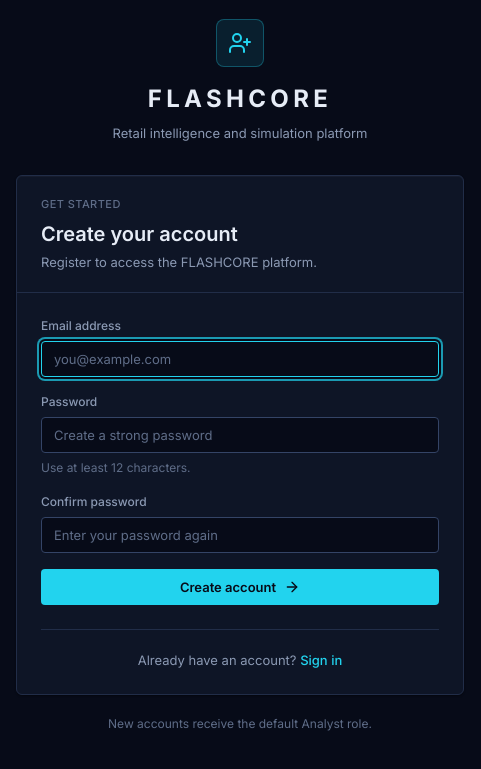
it: SignupPage › rejects mismatched password confirmation
Type "analyst@flashcore.test" into the field labelled "Email address". click: (240, 359)
box: x1=41 y1=341 x2=439 y2=377
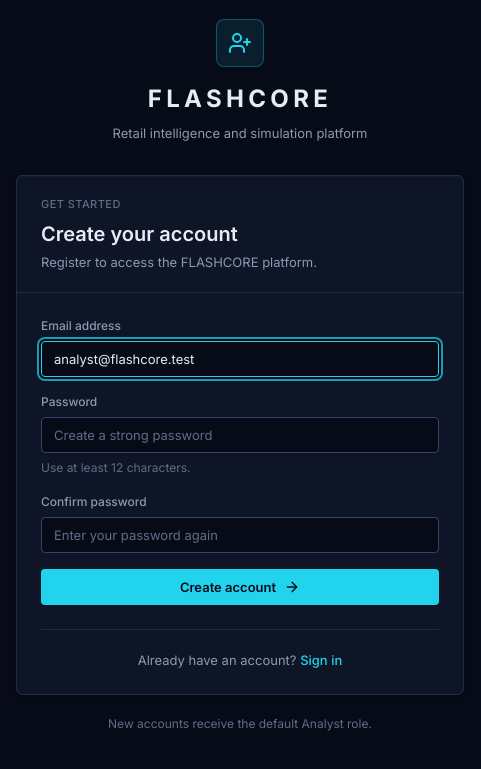
Type "correct-password-123" into the password field labelled "Password". click: (240, 435)
box: x1=41 y1=417 x2=439 y2=453
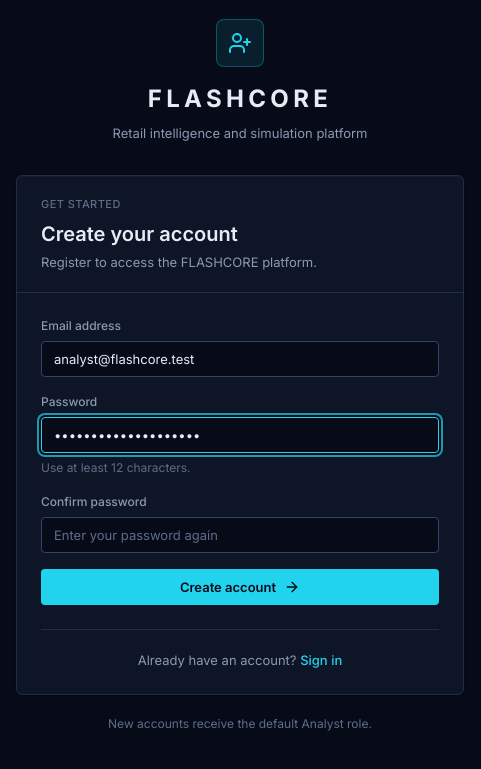
Type "different-password" into the password field labelled "Confirm password". click: (240, 535)
box: x1=41 y1=517 x2=439 y2=553
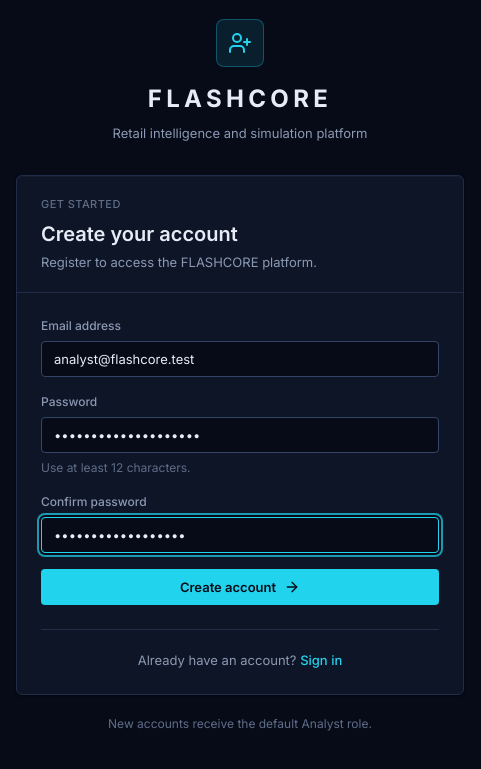
Click the button "Create account". click: (240, 587)
box: x1=41 y1=569 x2=439 y2=605
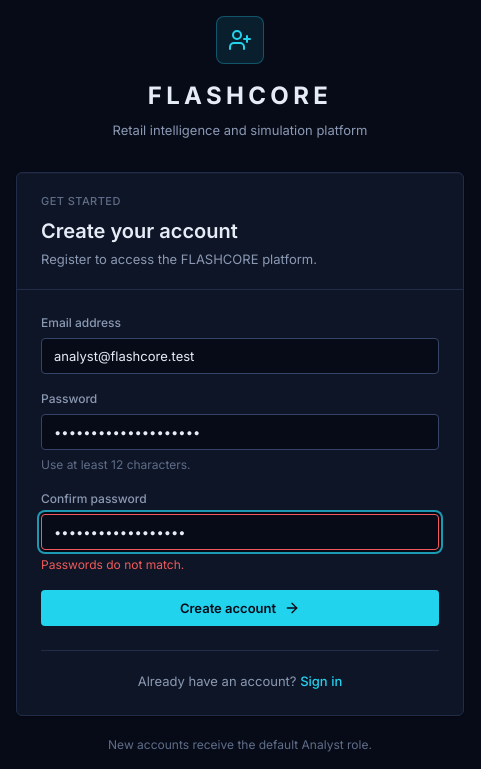
Now the text "Passwords do not match." is shown, box x1=41 y1=557 x2=184 y2=572
